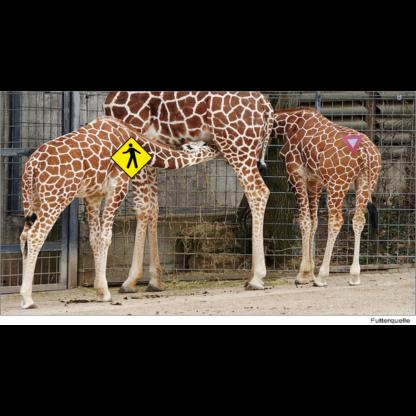A-32a: (110, 136, 153, 179)
